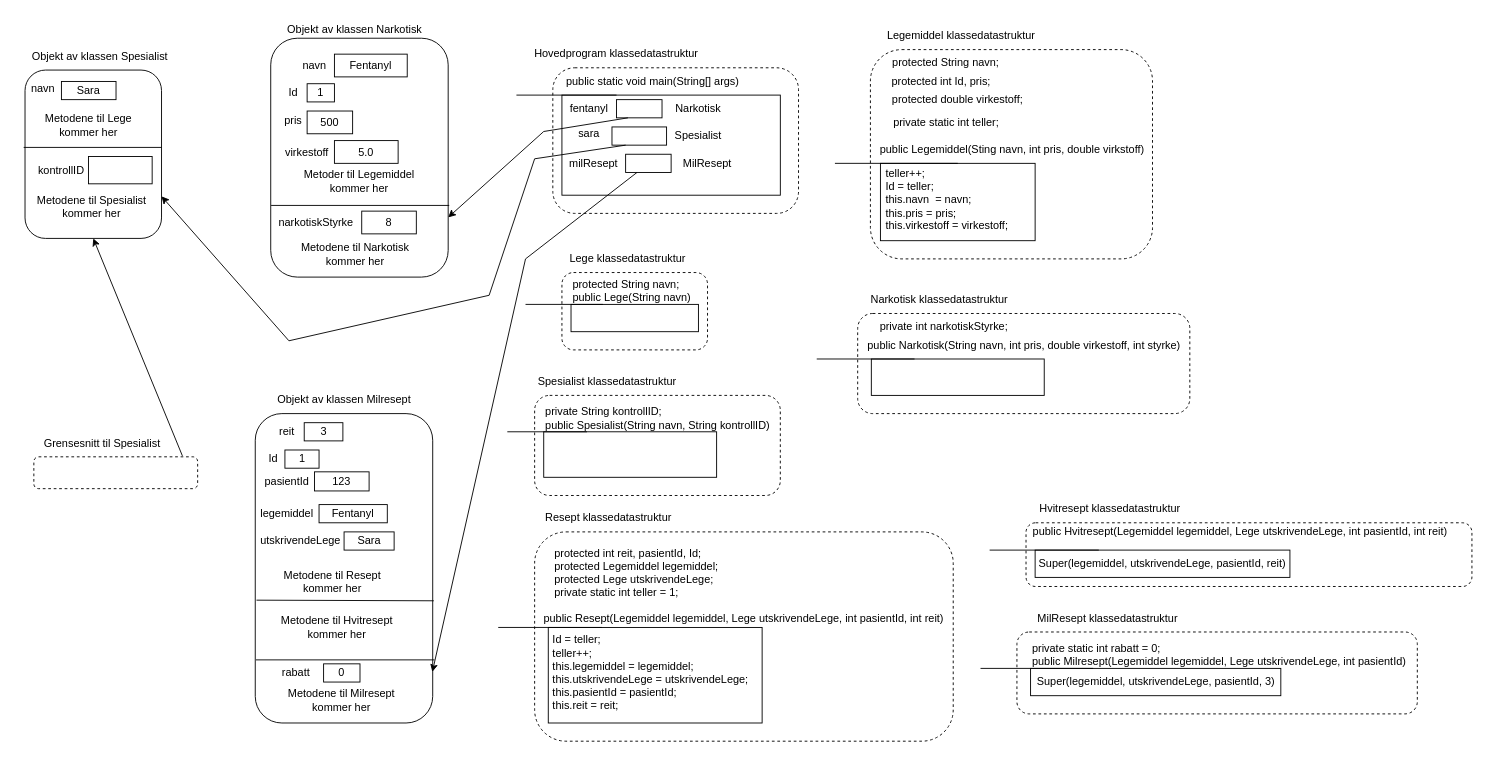
Some shapes in this 1488 by 757 pixel diagram are drawn without their labels. The centre of each missing label's shape, as x and y in pixels:
"owueby25" goes at pixel 120 170.
"public void hentKontrollID();" goes at pixel 115 472.
"super(navn); this.kontrollID = kontrollID;" goes at pixel 630 454.
"super(navn, pris, virkestoff); narkotiskStyrke = styrke;" goes at pixel 957 376.
"this.navn = navn" goes at pixel 634 317.
